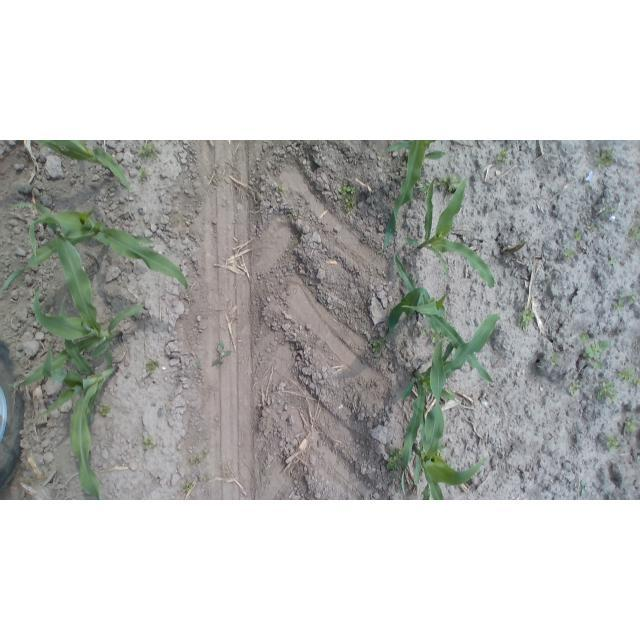Maize: (1, 201, 148, 390), (0, 193, 194, 300), (396, 312, 502, 498), (36, 288, 120, 500), (383, 250, 497, 386), (409, 336, 491, 500), (403, 176, 497, 288), (377, 141, 447, 256), (34, 141, 133, 192)
Weeds: (583, 336, 610, 373), (334, 180, 358, 215), (212, 340, 233, 368), (595, 378, 618, 402), (438, 172, 462, 194), (595, 147, 617, 171), (518, 305, 536, 333), (137, 141, 162, 161), (187, 446, 210, 466), (547, 347, 564, 369), (386, 448, 402, 471), (141, 435, 160, 453), (619, 364, 638, 382), (623, 417, 640, 437), (430, 326, 447, 346), (565, 376, 581, 396), (496, 147, 512, 166), (145, 358, 162, 375), (95, 402, 113, 418), (178, 480, 198, 494), (599, 201, 613, 220), (372, 338, 385, 358), (606, 437, 622, 452), (577, 477, 588, 498), (615, 291, 626, 312), (138, 167, 153, 182), (417, 180, 429, 196), (630, 224, 640, 243), (273, 183, 287, 195), (565, 248, 577, 262), (416, 324, 429, 336), (573, 229, 584, 243), (629, 291, 639, 306), (436, 444, 446, 459), (174, 212, 185, 225), (578, 330, 589, 343), (285, 212, 302, 220), (199, 469, 209, 482), (192, 358, 202, 371), (544, 275, 554, 286), (589, 223, 598, 233), (608, 258, 617, 268), (633, 377, 640, 387)
